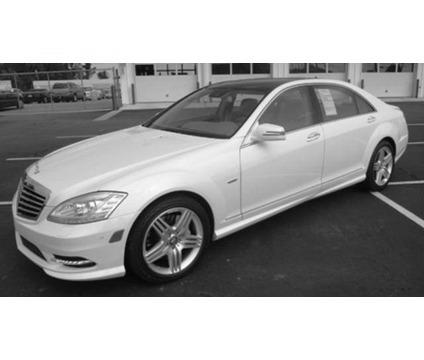car: (13, 78, 409, 283)
